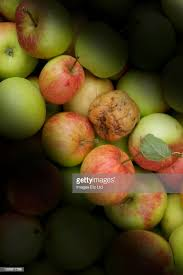apple: (73, 23, 136, 76), (38, 113, 101, 166), (2, 78, 50, 140), (79, 148, 138, 195), (125, 69, 173, 120), (1, 22, 38, 79)
damaged_apple: (87, 93, 140, 146)
